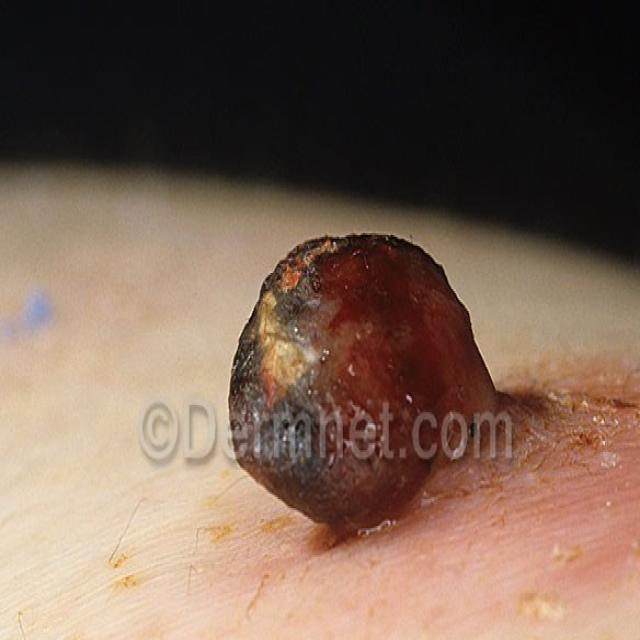Vascular Tumors: (202, 182, 640, 575)
